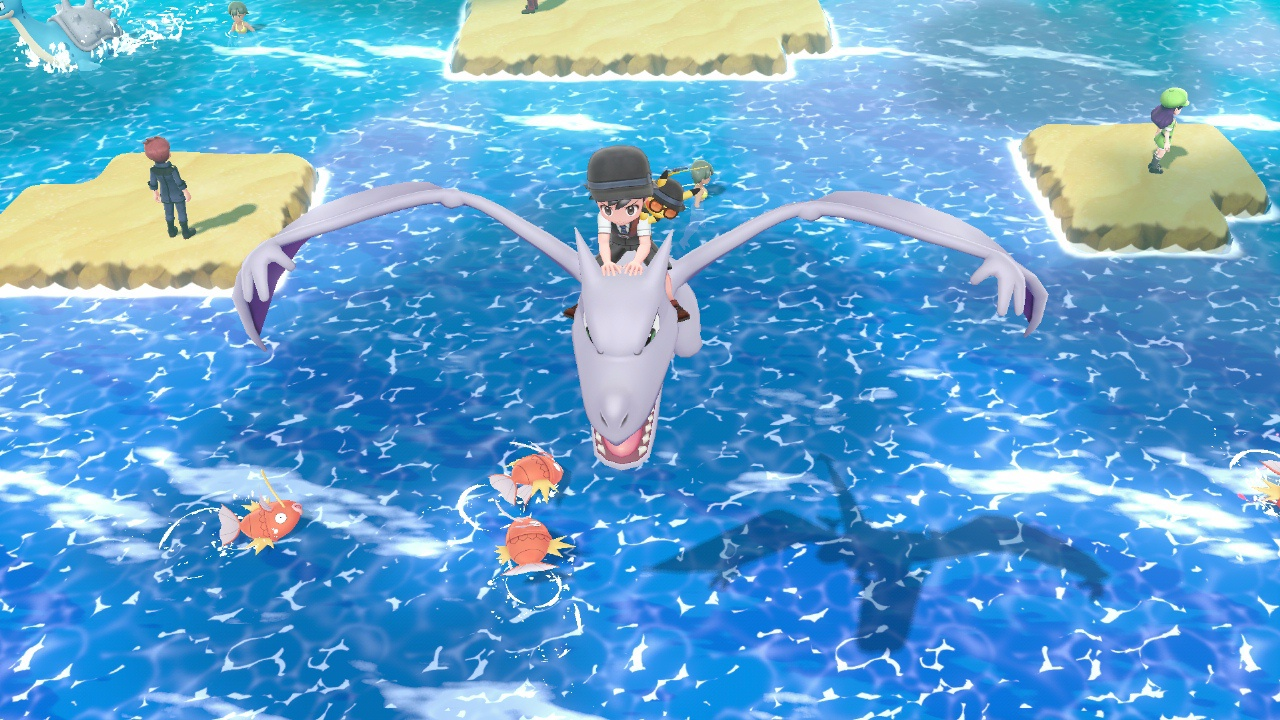Red: (215, 469, 304, 554), (493, 519, 576, 577), (488, 445, 565, 507)
